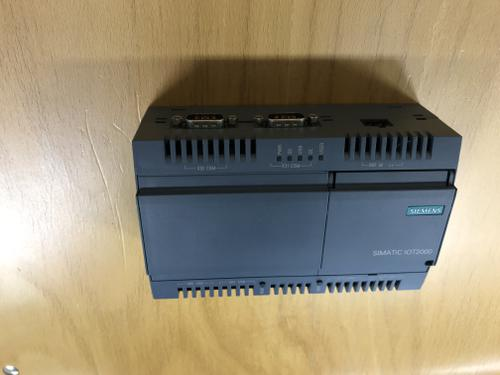device: (38, 76, 369, 273)
